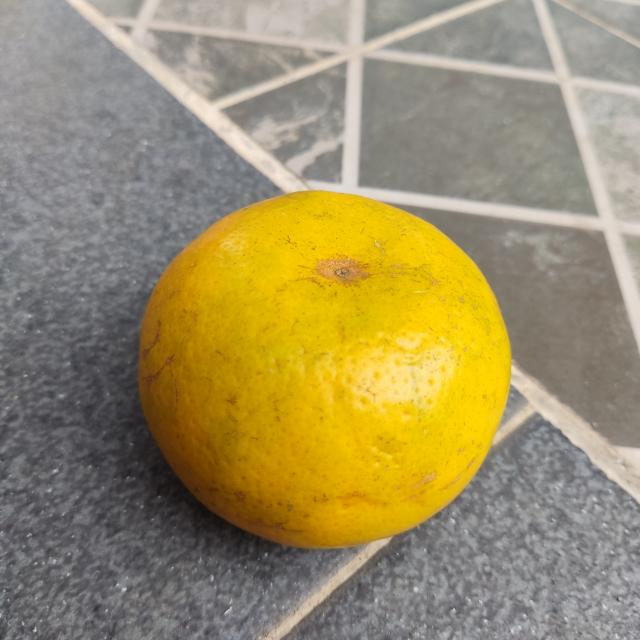orange: (135, 188, 514, 550)
